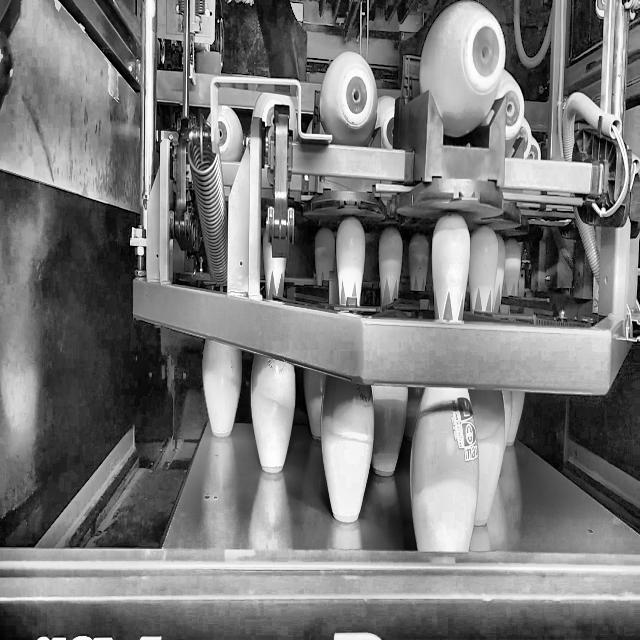bowling-pins: (411, 387, 480, 552), (322, 376, 375, 522), (251, 354, 296, 473), (471, 391, 506, 526), (433, 215, 471, 322), (202, 340, 241, 437), (336, 217, 365, 304), (470, 225, 499, 312)
